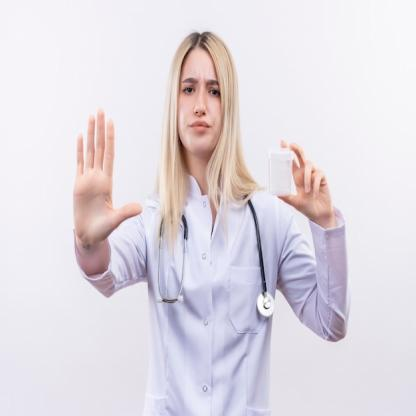stop: (73, 107, 144, 243)
